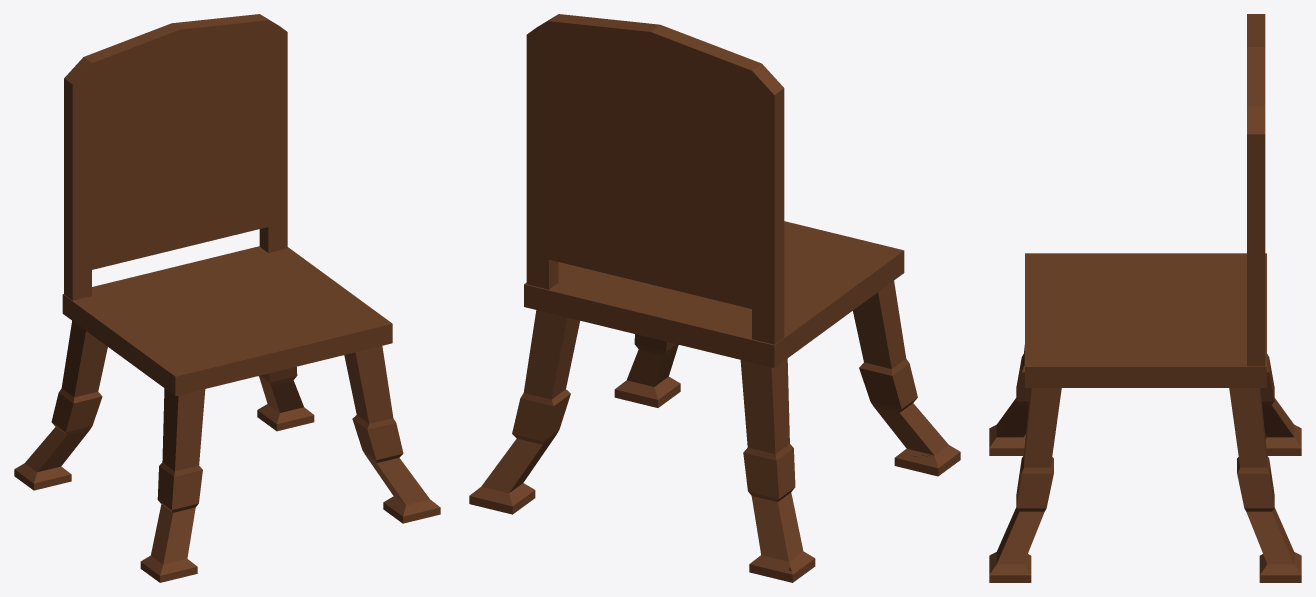
File: Clean chair.glb
3 renders of one model, left to right at view 1: azimuth 30°, elevation 25°; view 2: azimuth 150°, elevation 25°; view 3: azimuth 270°, elevation 25°, orthographic. The views are drawn at different scales.
Parts seen in each view (by area): view 1: Cube.004; view 2: Cube.004; view 3: Cube.004.
Boxes of the visible parts, left/top/right/bottom form: Cube.004: left=14, top=14, right=440, bottom=582; Cube.004: left=469, top=14, right=960, bottom=582; Cube.004: left=989, top=14, right=1301, bottom=582.
Bounding box in the file's own units: 0.4882 × 0.7172 × 0.4391.
1 material, 1 textured.
